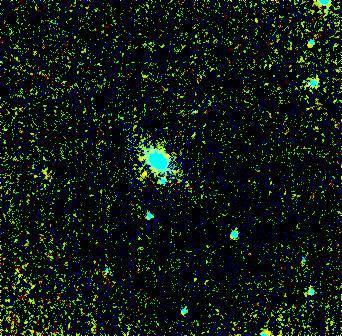star: (129, 159, 159, 189)
